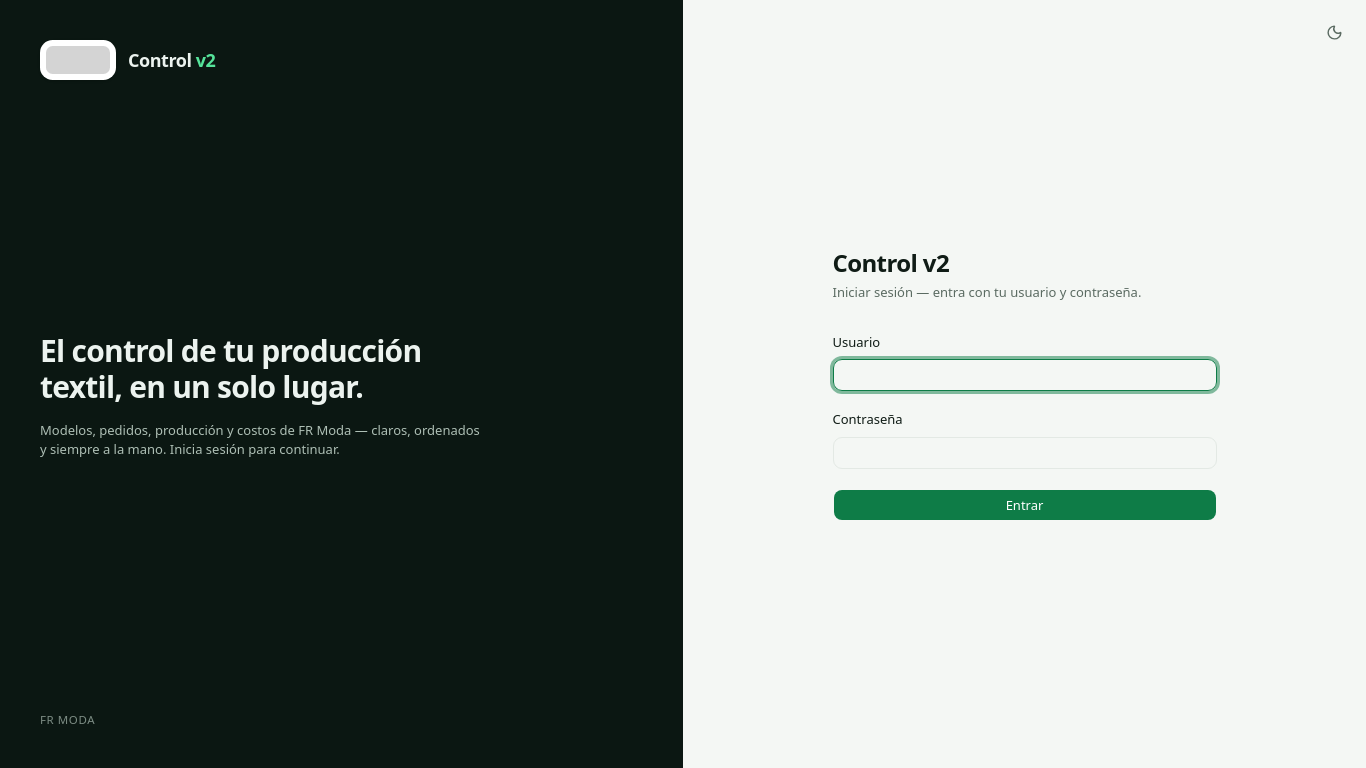
it: <Login> › valida la captura: muestra errores en español si se envia vacio
The image size is (1366, 768).
Click the button "Entrar": (1024, 505) [832,489,1216,521]
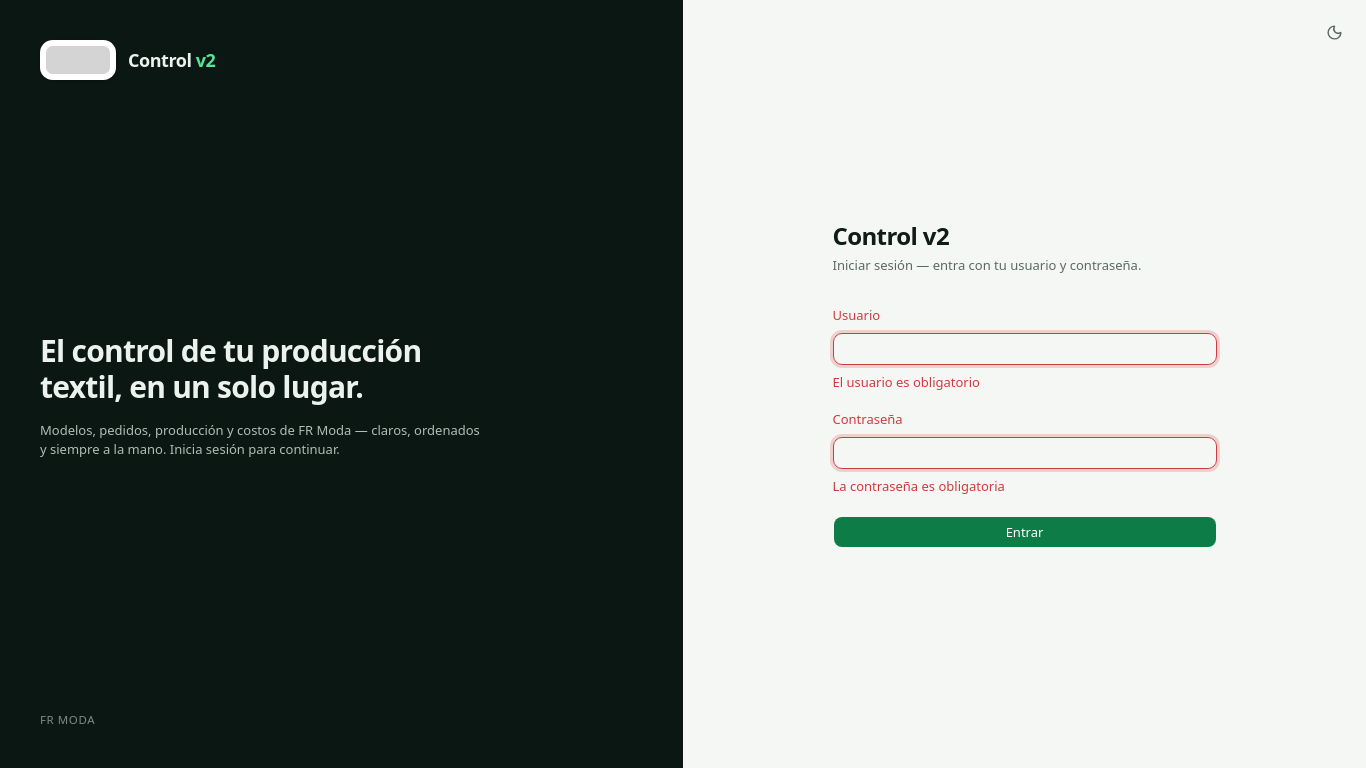
Now the text "El usuario es obligatorio" is shown, box [832,373,980,391]
Now the text "La contraseña es obligatoria" is shown, box [832,477,1005,495]
